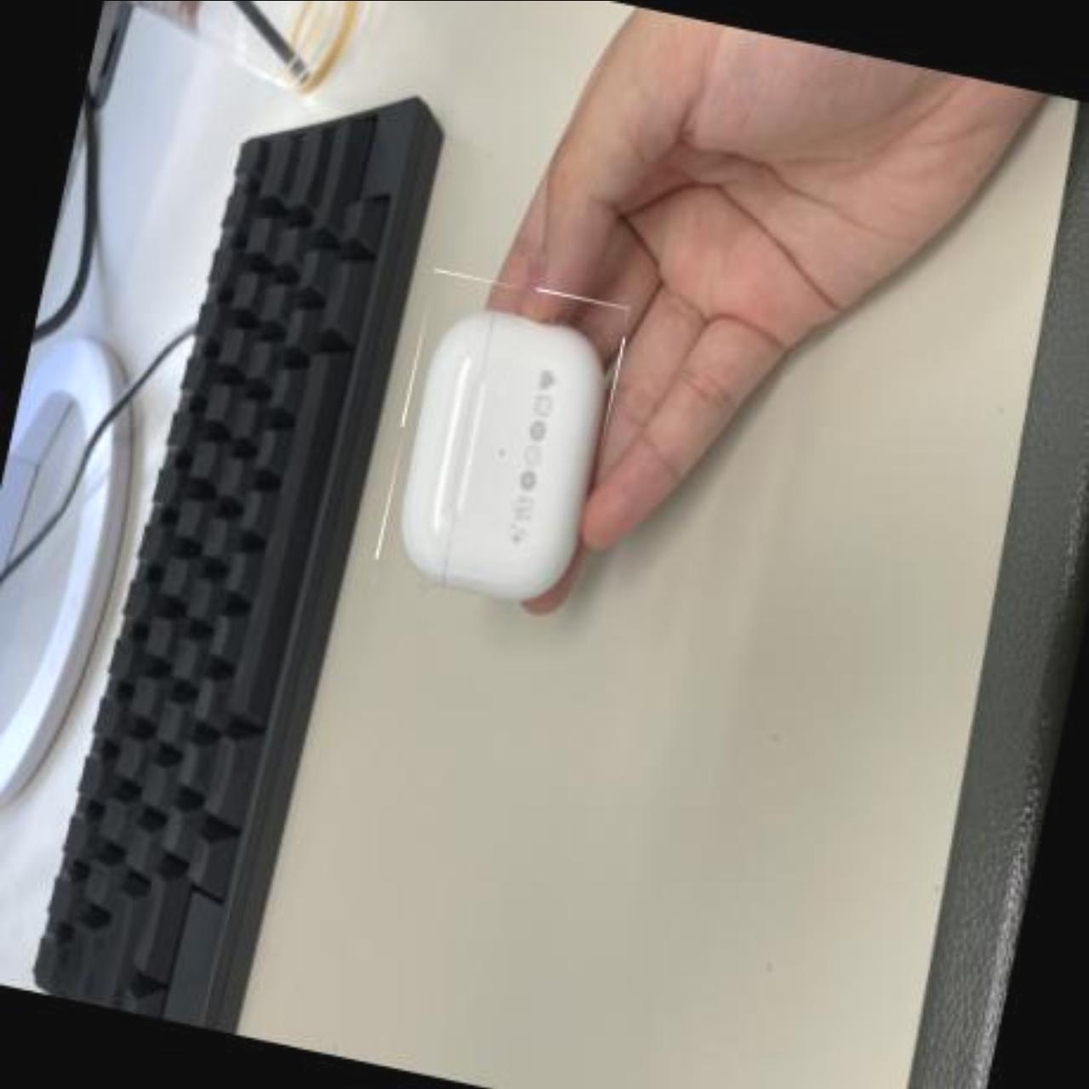AirPods: (367, 269, 632, 628)
